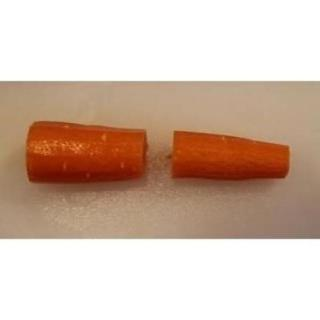carrot: (23, 116, 150, 190), (160, 122, 298, 186)
